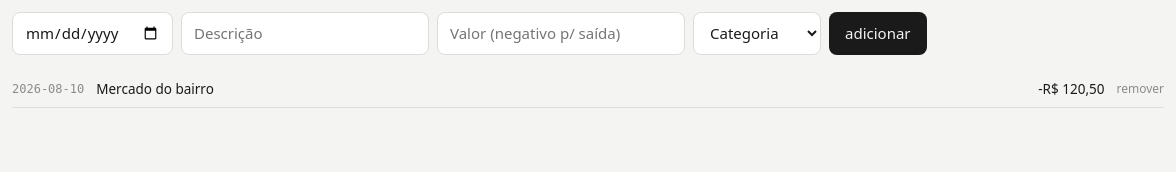
Scenario: TelaExtrato › recarrega a lista do servidor após remover uma transação
The image size is (1176, 172).
Expected: the text "Mercado do bairro" is shown, x1=96 y1=80 x2=214 y2=98
Click the button with aria-label "Remover Mercado do bairro" at (1140, 89), box x1=1116 y1=80 x2=1164 y2=98
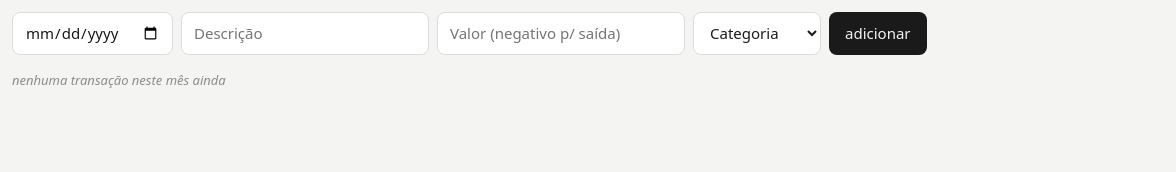
Expected: the text "nenhuma transação neste mês ainda" is shown, x1=12 y1=70 x2=226 y2=88
